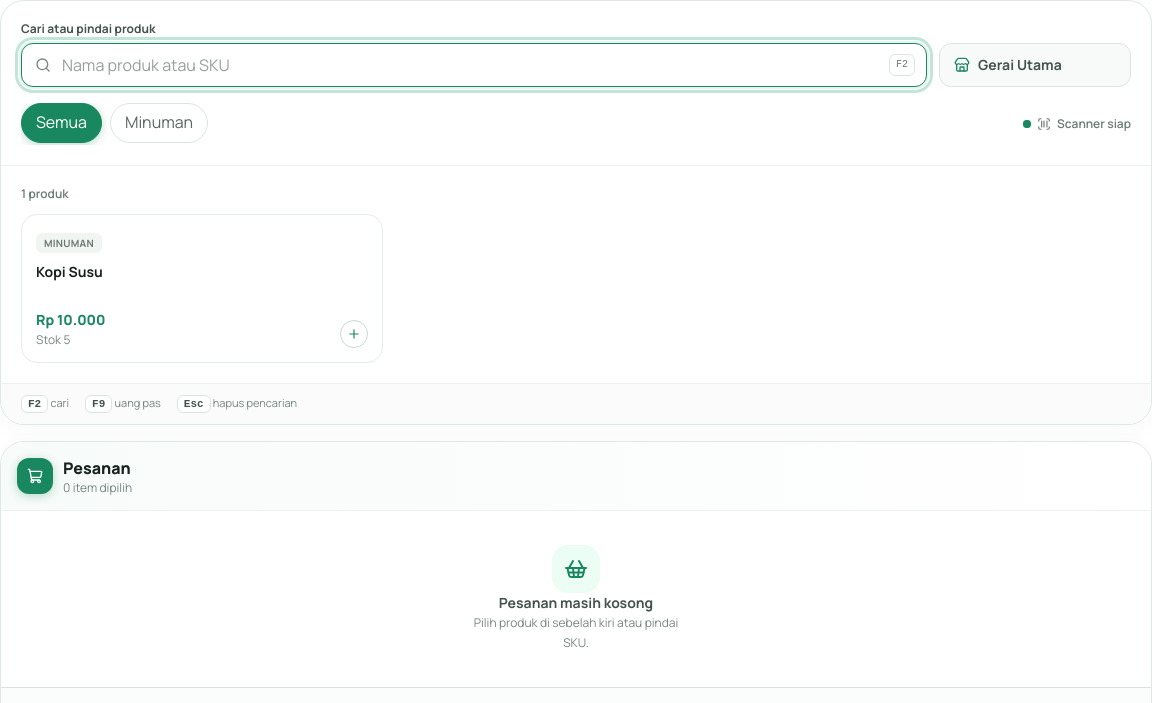
Test: catatan per item khusus Bisnis › Tumbuh: input catatan tampil tapi terkunci
The width and height of the screenshot is (1152, 703).
Step 1. Click the button "Minuman Kopi Susu Rp 10.000 Stok 5" → {"x": 69, "y": 243}, box [21, 214, 383, 363]
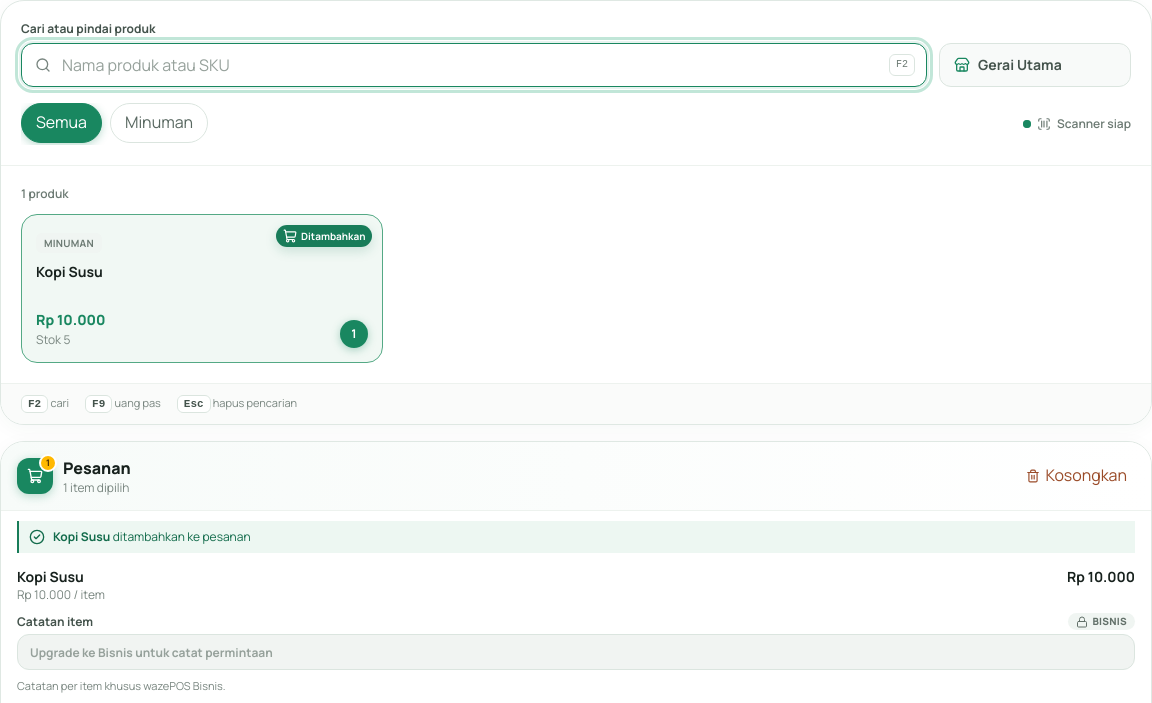
Expected: the field named "Catatan untuk Kopi Susu" is disabled, [17, 634, 1135, 670]
Expected: the text "Catatan per item khusus wazePOS Bisnis." is shown, [17, 678, 226, 693]
